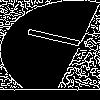I: (25, 25, 96, 53)
